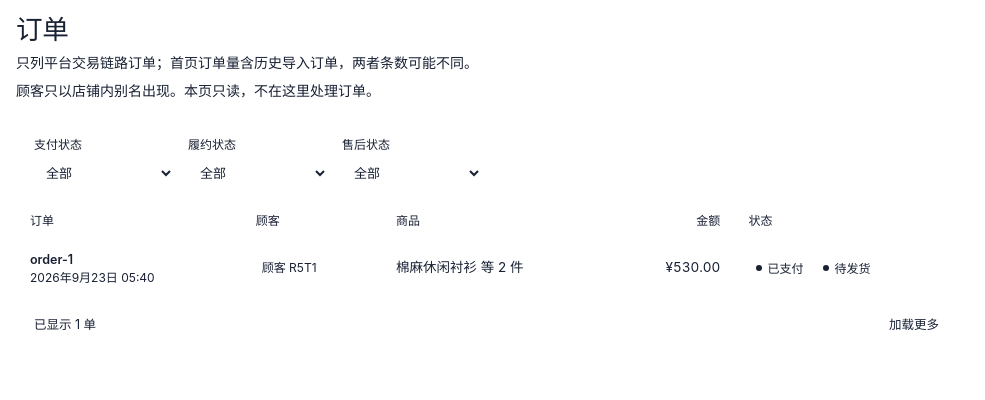
it: OrdersView › 「加载更多」其他失败时保留已加载的订单，并可重试
Step 1. Click the button with test id "orders-load-more" → click(914, 325), box [878,310,950,340]
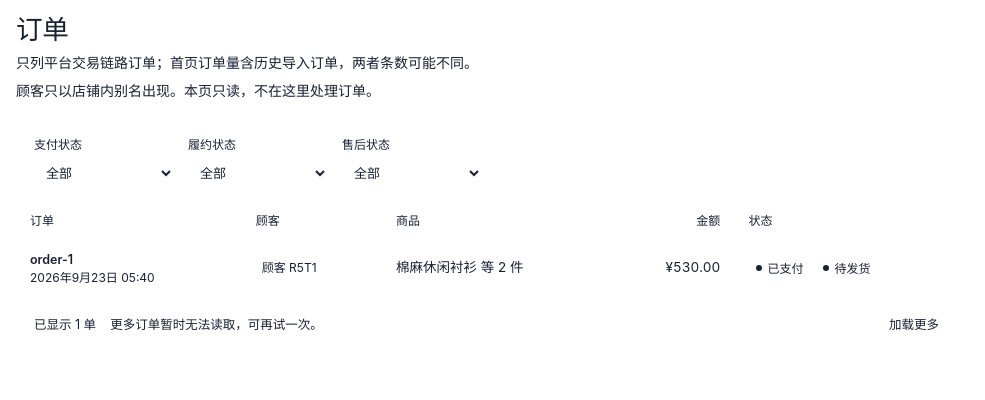
Expected: the number of rows with test id "order-row" is 1, [16,239,968,298]
Expected: the message with test id "orders-more-error" shows "更多订单暂时无法读取", [110,317,323,332]
Step 2. Click the button with test id "orders-load-more" → click(914, 325), box [878,310,950,340]
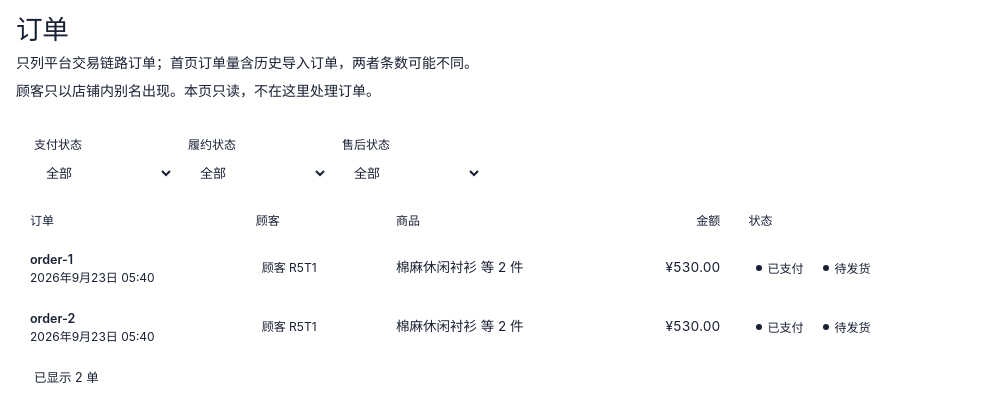
Expected: the number of rows with test id "order-row" is 2, [16,239,968,298]; [16,298,968,357]
